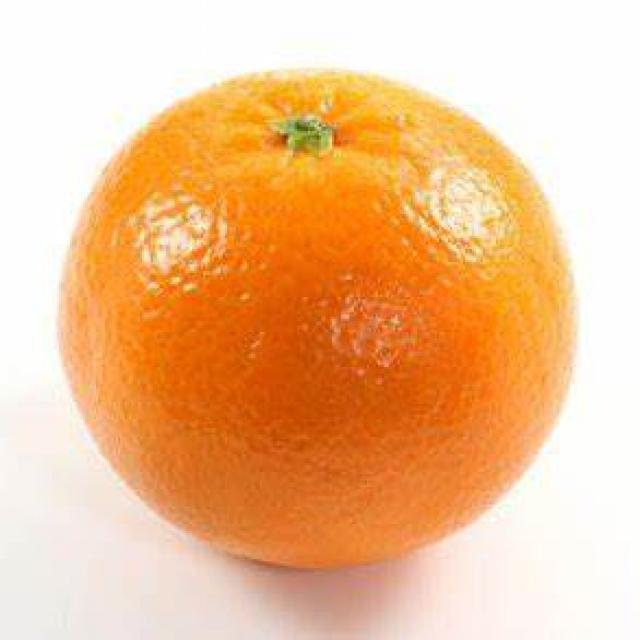Orange: (62, 70, 585, 571)
